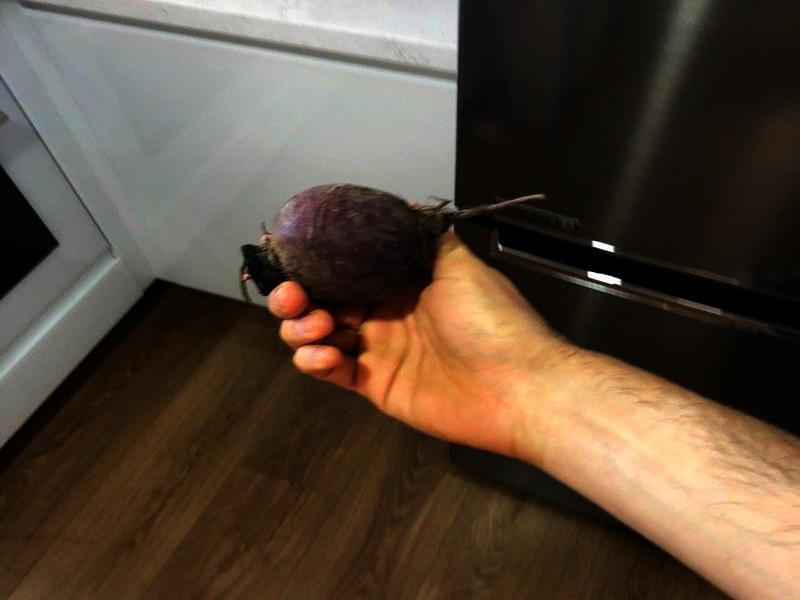Beet: (238, 184, 544, 305)
